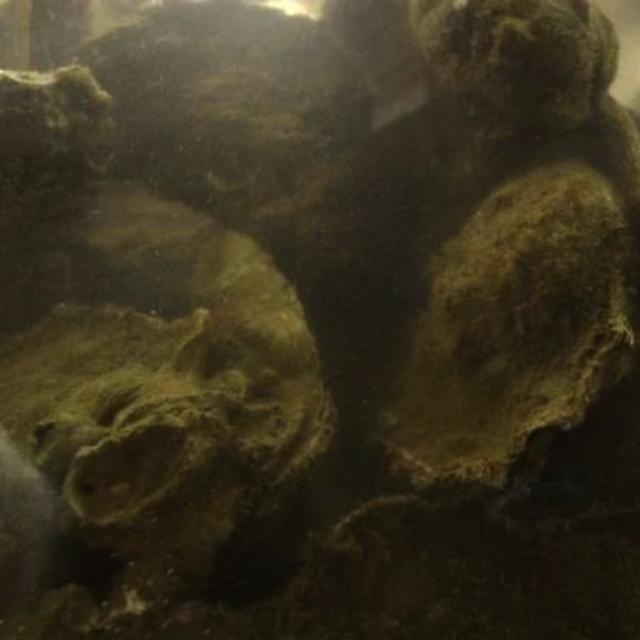Oyster-Closed: (90, 195, 329, 614), (376, 160, 635, 496), (54, 0, 371, 215), (0, 304, 243, 556), (0, 63, 109, 339), (409, 0, 630, 123)
